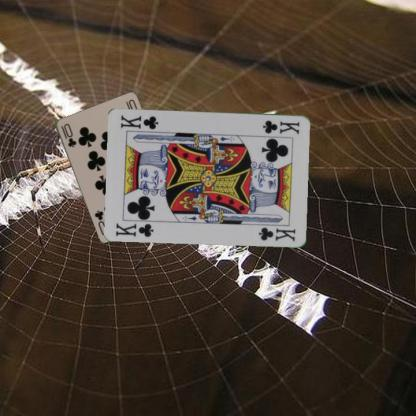10c: (58, 121, 78, 148)
Kc: (114, 220, 155, 238), (260, 117, 300, 135)
